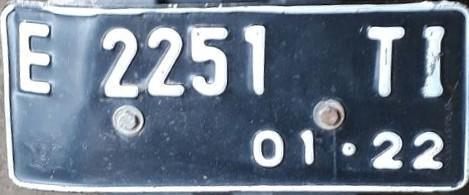1: (234, 22, 286, 100)
2: (97, 21, 142, 103), (141, 22, 187, 98)
5: (187, 22, 234, 99)
E: (13, 13, 64, 104)
I: (411, 21, 463, 98)
T: (352, 22, 410, 100)
